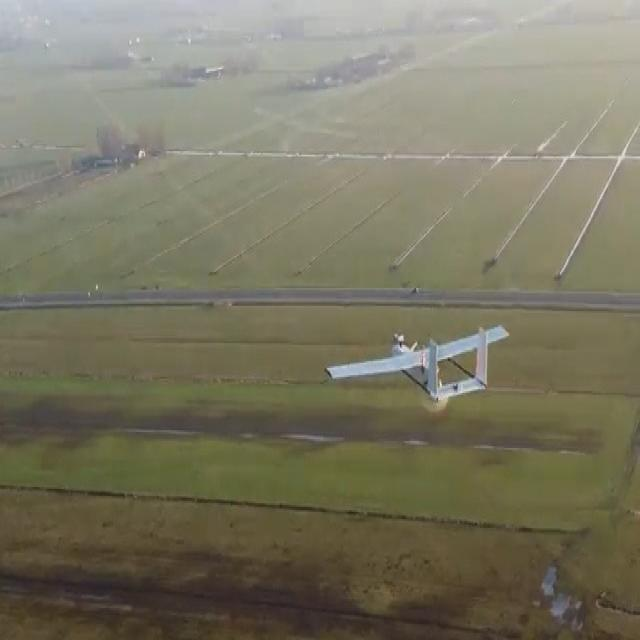iha: (326, 351, 513, 383)
